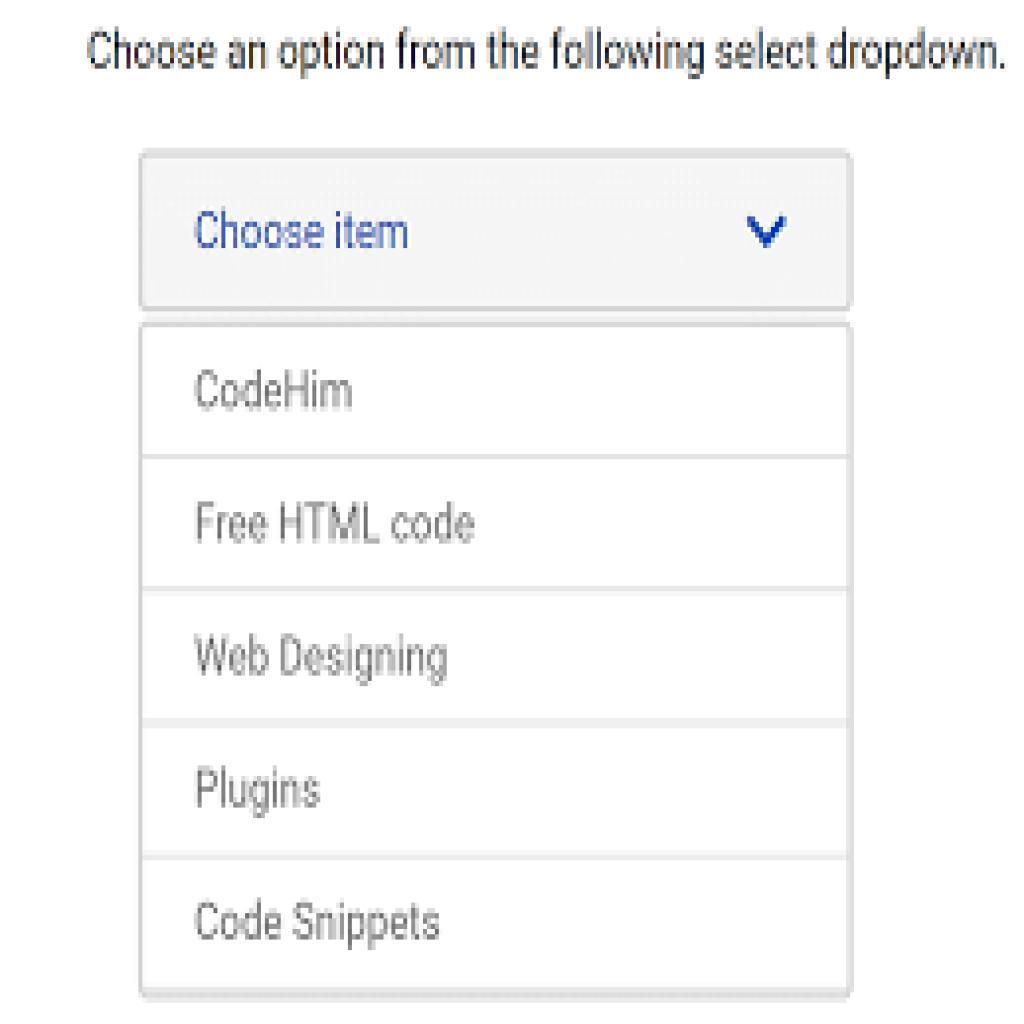dropdown: (138, 151, 854, 314)
